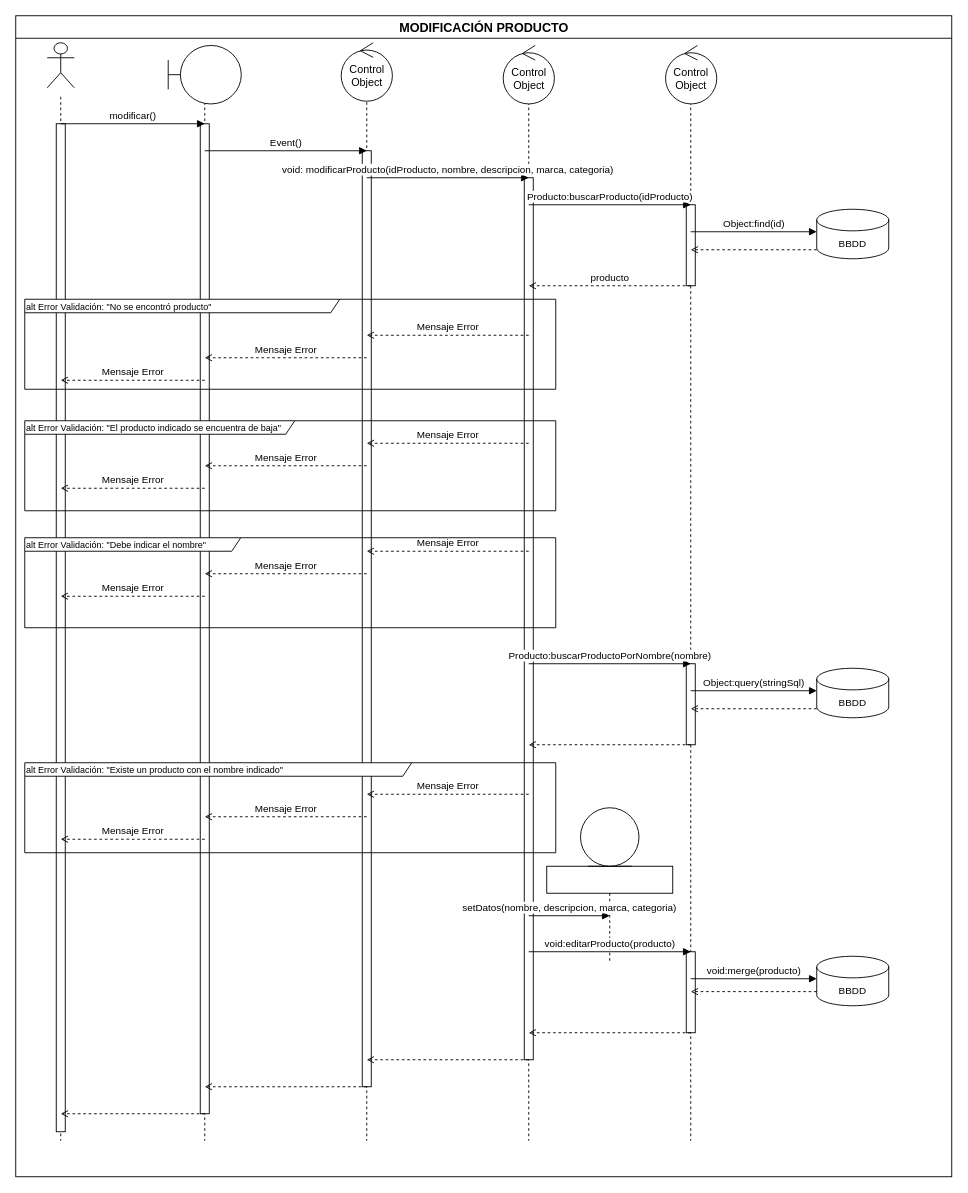
Image size: 968x1193. Some labels were removed from this diagram. Each missing label, with the centre of its shape:
"Administrador" belongs at point 60,65.
"Boundary Object" belongs at point 204,74.
"Entity Object" belongs at point 609,836.
"producto : Producto" belongs at point 609,879.
